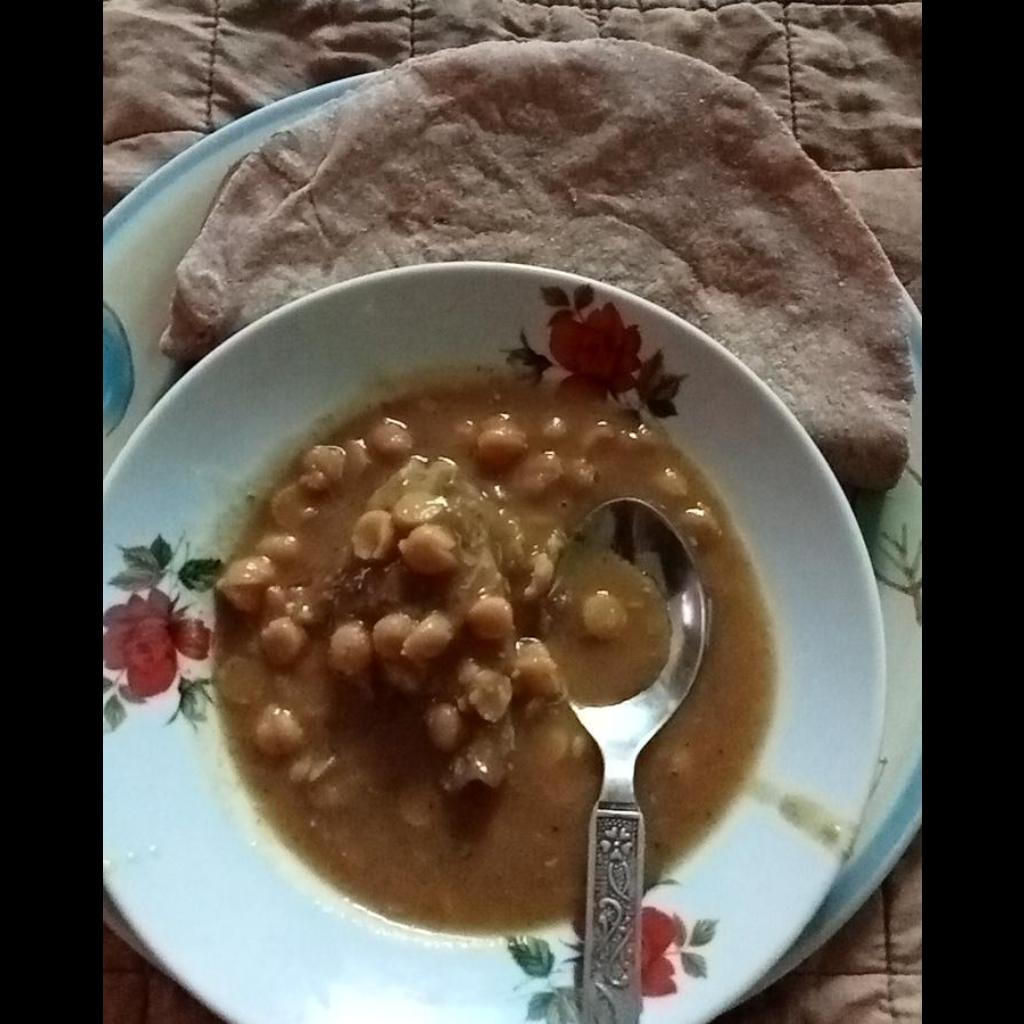daal: (211, 369, 774, 933)
ruti: (155, 40, 913, 495)
